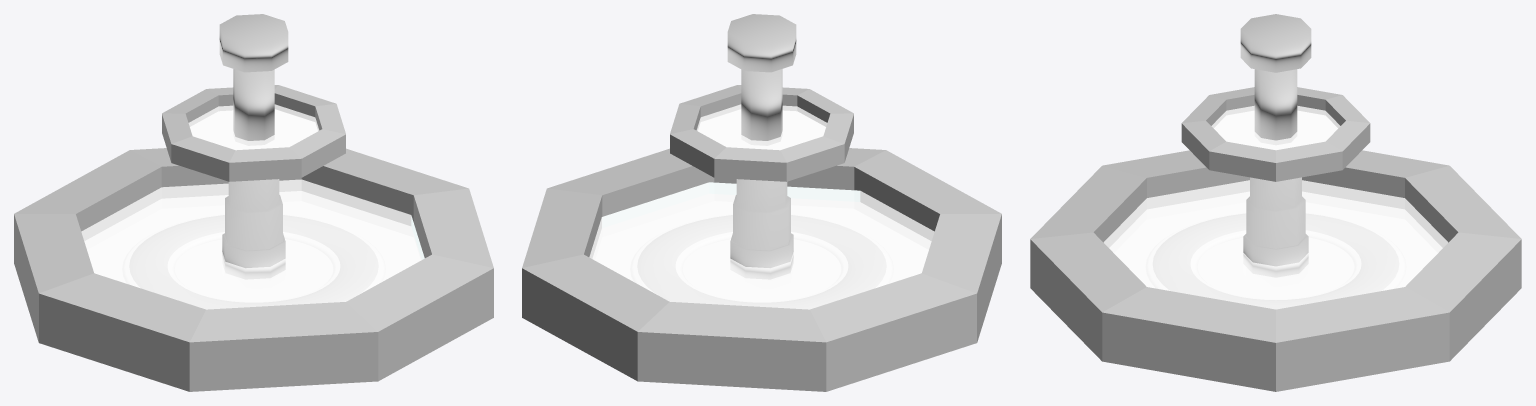
Rendered from fountain.fbx.
The picture shows the model from 3 angles, left to right: view 1: azimuth 30°, elevation 25°; view 2: azimuth 150°, elevation 25°; view 3: azimuth 270°, elevation 25°; orthographic projection.
Parts seen in each view (by area): view 1: 실린더.003, 실린더.004, 실린더.006; view 2: 실린더.003, 실린더.004, 실린더.006; view 3: 실린더.003, 실린더.004, 실린더.006.
Boxes of the visible parts, x1,y1,x2,y2 form: 실린더.003: [14, 14, 493, 391]; 실린더.004: [81, 179, 424, 309]; 실린더.006: [188, 104, 319, 150]; 실린더.003: [522, 14, 1001, 391]; 실린더.004: [589, 182, 934, 309]; 실린더.006: [696, 104, 827, 150]; 실린더.003: [1030, 14, 1521, 391]; 실린더.004: [1103, 180, 1448, 309]; 실린더.006: [1211, 105, 1340, 150].
Bounding box in the file's own units: 3807 × 2215 × 3807.
